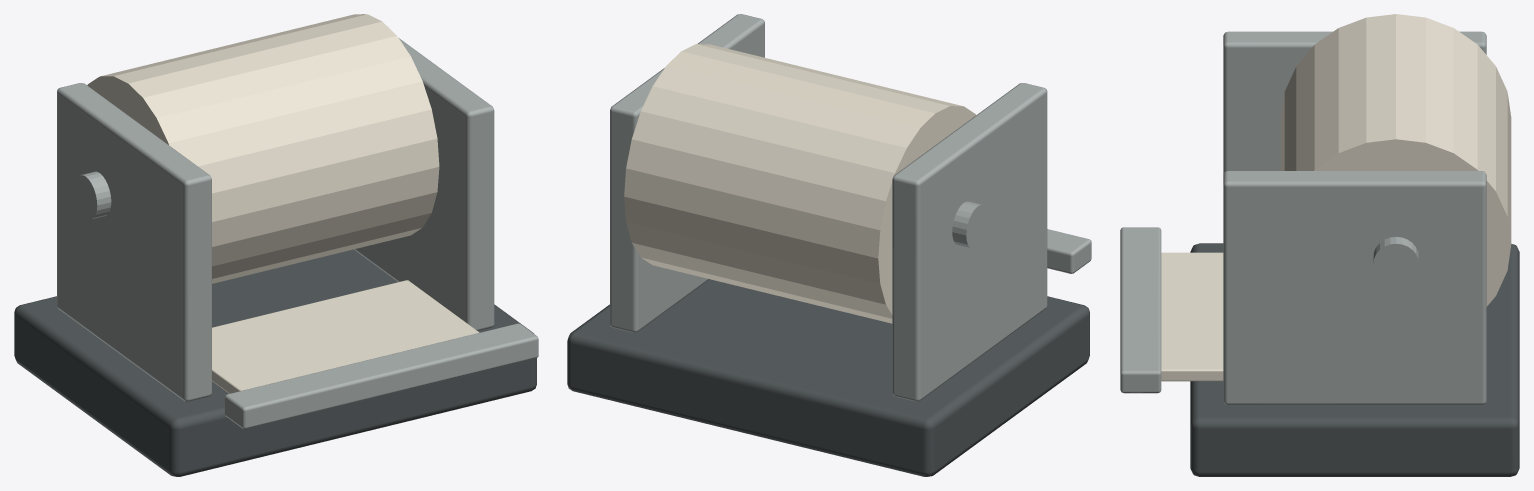
The model's file is coffee-roastery-and-cupping-room-coffee-roastery-and-c-1086d3dd__32223.glb.
The picture shows the model from 3 angles, left to right: view 1: azimuth 30°, elevation 25°; view 2: azimuth 150°, elevation 25°; view 3: azimuth 270°, elevation 25°; orthographic projection.
Parts seen in each view (by area): view 1: coffee-roastery-and-cupping-room-batch-label-dispenser; view 2: coffee-roastery-and-cupping-room-batch-label-dispenser; view 3: coffee-roastery-and-cupping-room-batch-label-dispenser.
Part boxes in pixels (left/top/right/bottom): coffee-roastery-and-cupping-room-batch-label-dispenser: left=14, top=14, right=538, bottom=476; coffee-roastery-and-cupping-room-batch-label-dispenser: left=567, top=14, right=1091, bottom=476; coffee-roastery-and-cupping-room-batch-label-dispenser: left=1120, top=14, right=1519, bottom=476.
Bounding box in the file's own units: 0.26 × 0.21 × 0.2425.
